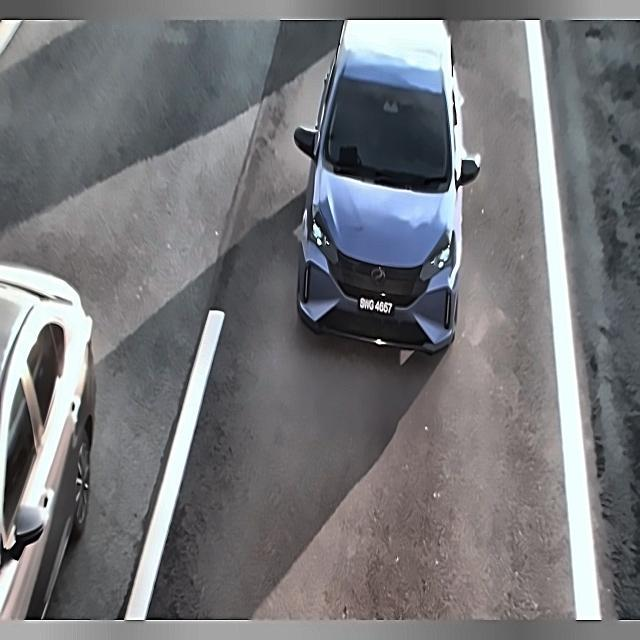car: (352, 286, 398, 323)
